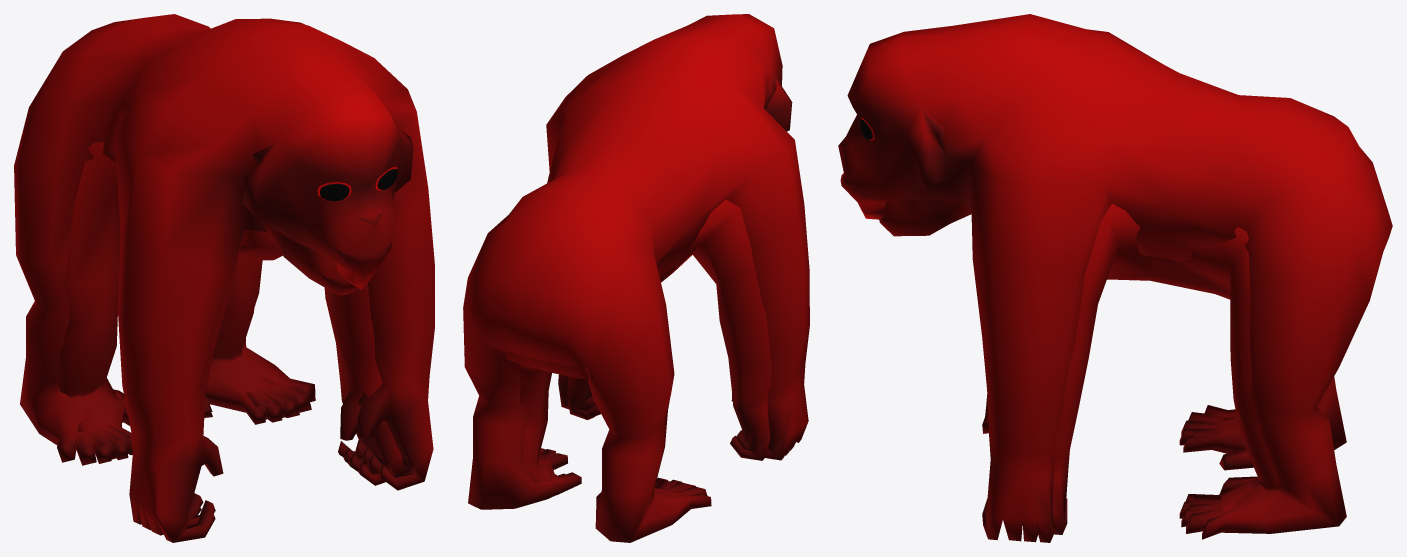
The model's file is Animals_Orangutan.fbx.
The picture shows the model from 3 angles, left to right: view 1: azimuth 30°, elevation 25°; view 2: azimuth 150°, elevation 25°; view 3: azimuth 270°, elevation 25°; orthographic projection. The views are drawn at different scales.
Visible parts, largest first — view 1: alt595, alt594; view 2: alt595, alt594; view 3: alt595, alt594.
Boxes of the visible parts, x1=… form: alt595: x1=14, y1=14, x2=434, y2=542; alt594: x1=57, y1=142, x2=402, y2=526; alt595: x1=463, y1=14, x2=809, y2=542; alt594: x1=505, y1=199, x2=771, y2=495; alt595: x1=838, y1=14, x2=1392, y2=542; alt594: x1=879, y1=197, x2=1279, y2=534.
Size of the model in its own units: 77.84 by 114 by 126.
